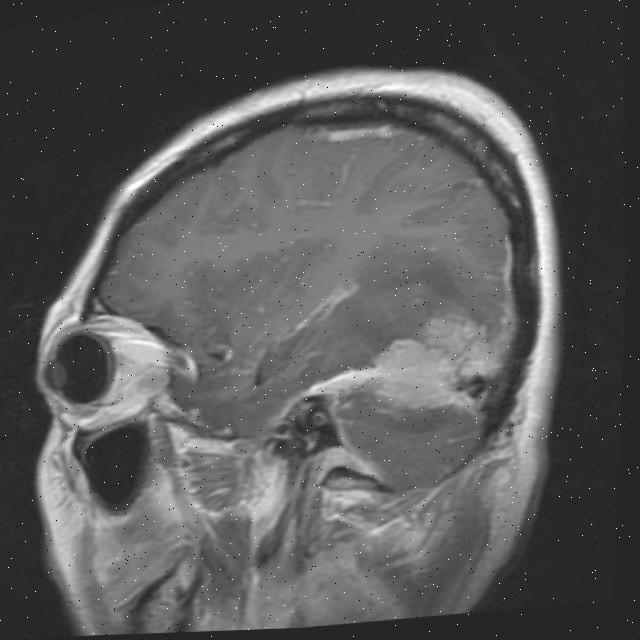Meningioma: (305, 304, 500, 428)
